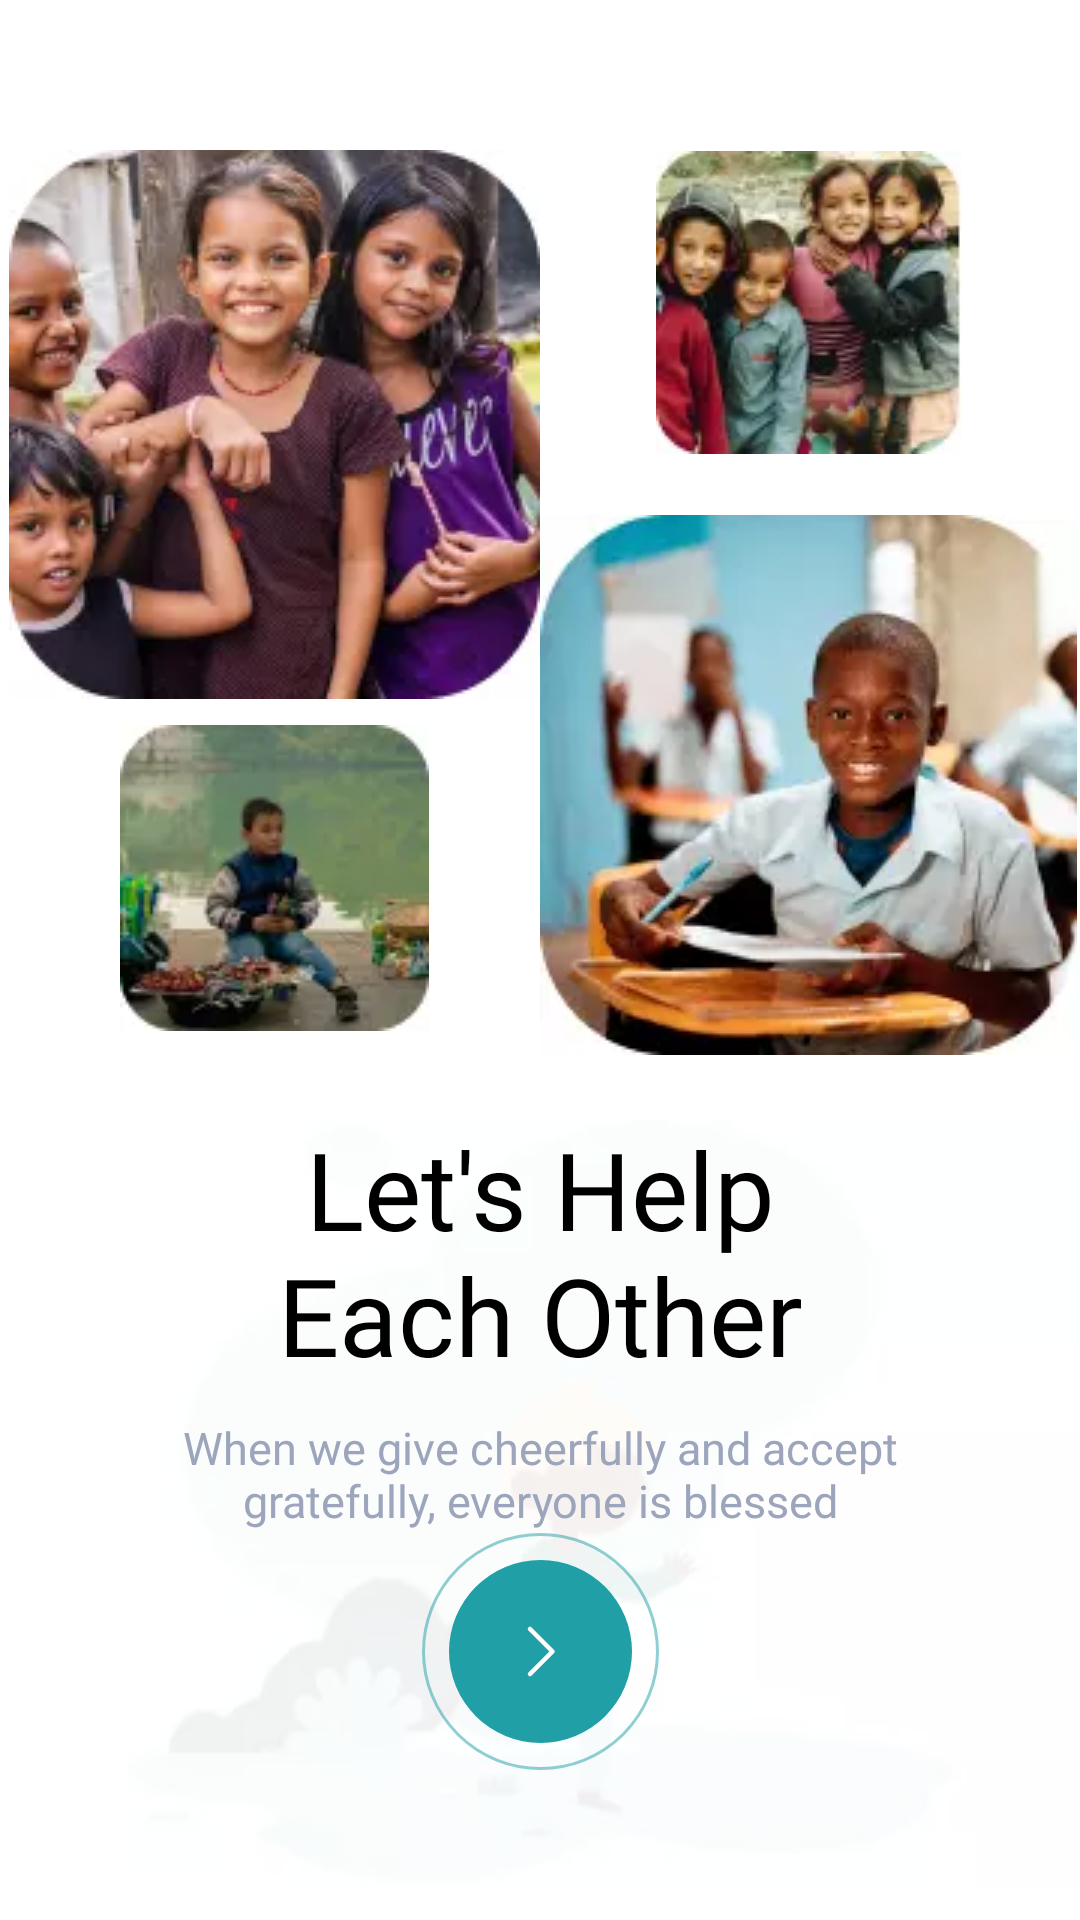

Named icons in this screenshot (1080 × 1920) and their centers, (x=x, y=y):
next: (x=540, y=1651)
